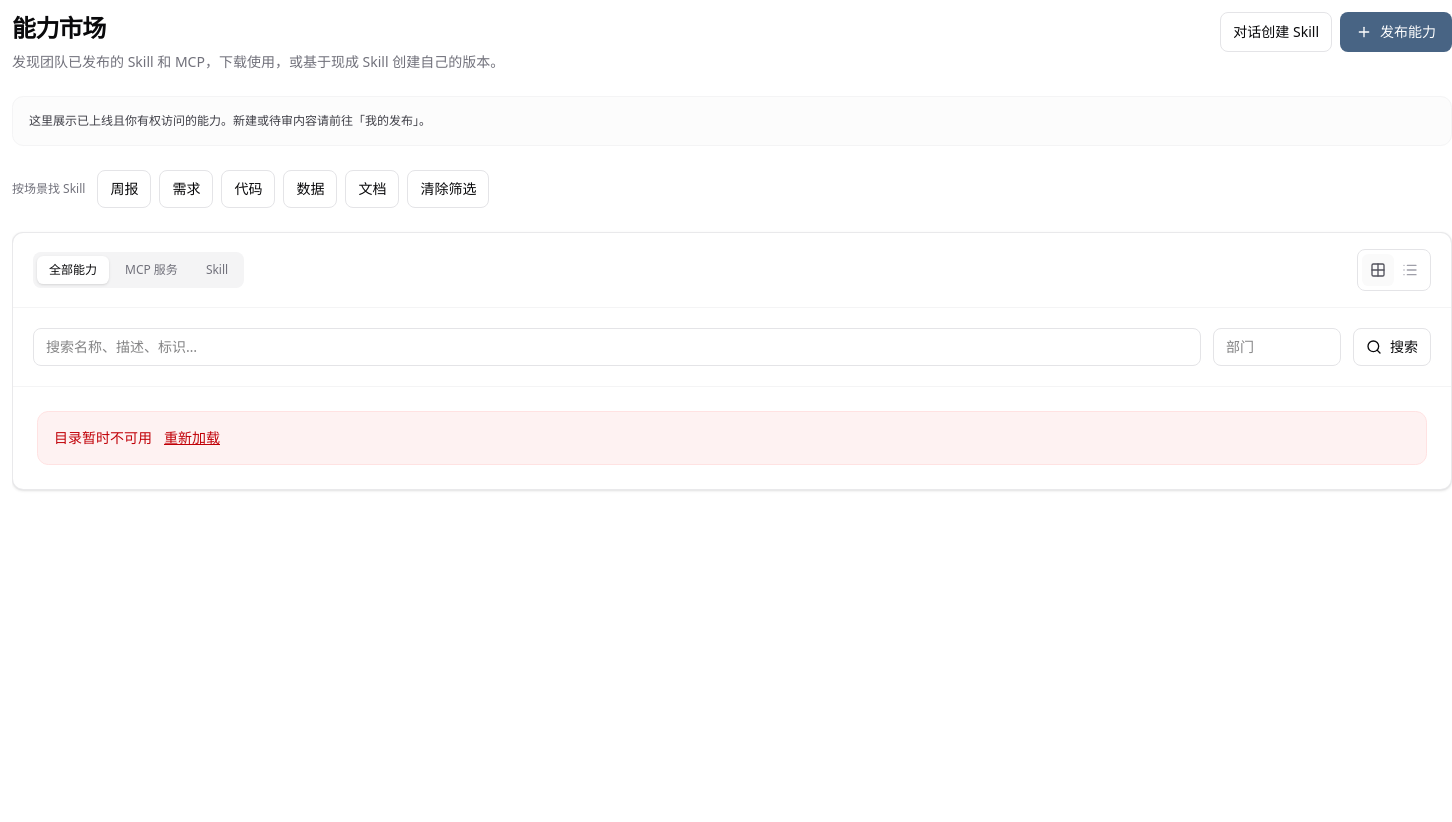
Test: distinguishes errors from an empty directory and supports retry
Expected: the message shows "目录暂时不可用", [54, 428, 152, 447]
Expected: the text "暂无可用能力" is not shown
Click the button "重新加载": [192, 438] box [164, 428, 220, 448]
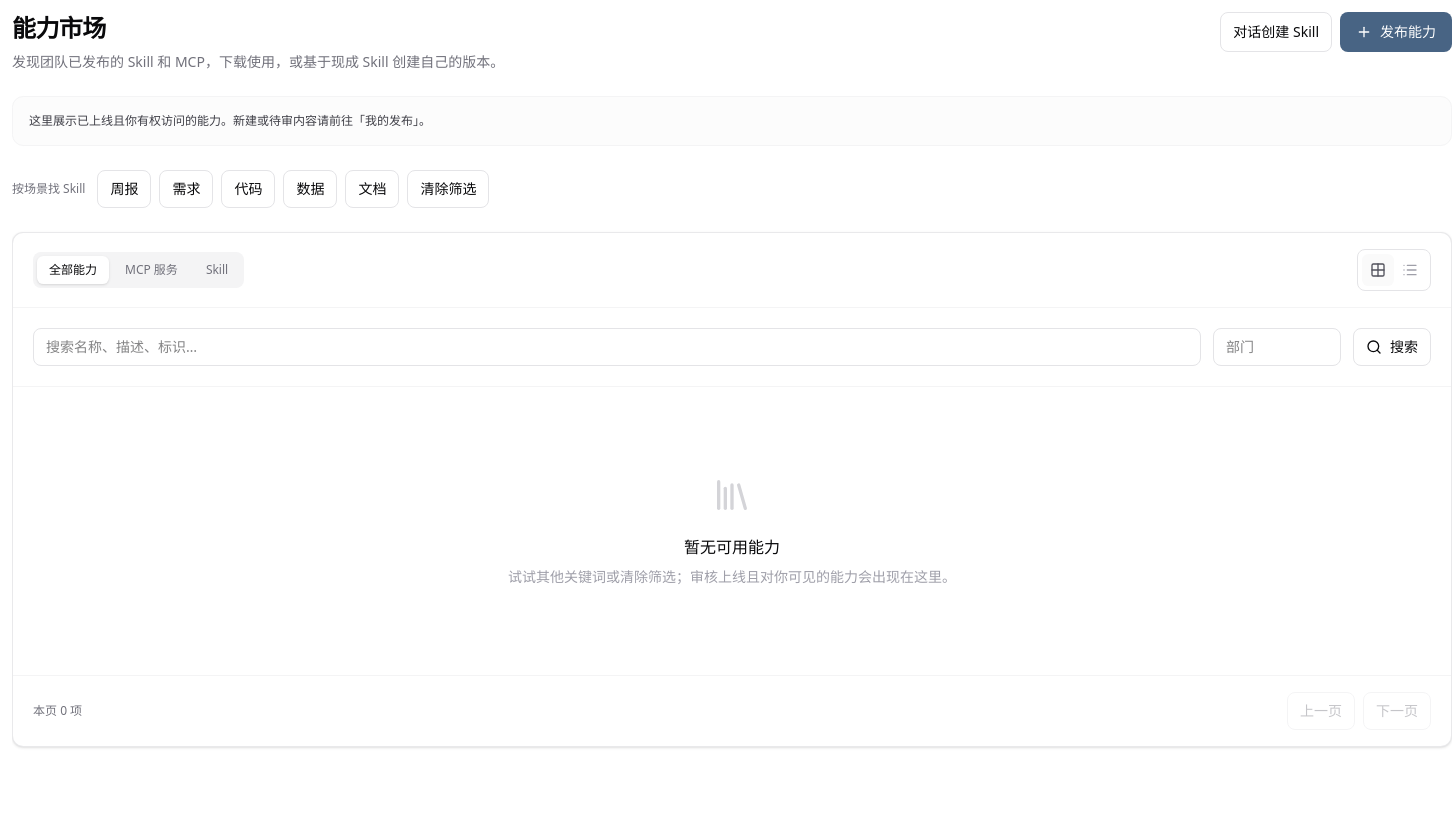
Now the heading "暂无可用能力" is shown, box [684, 535, 780, 559]
